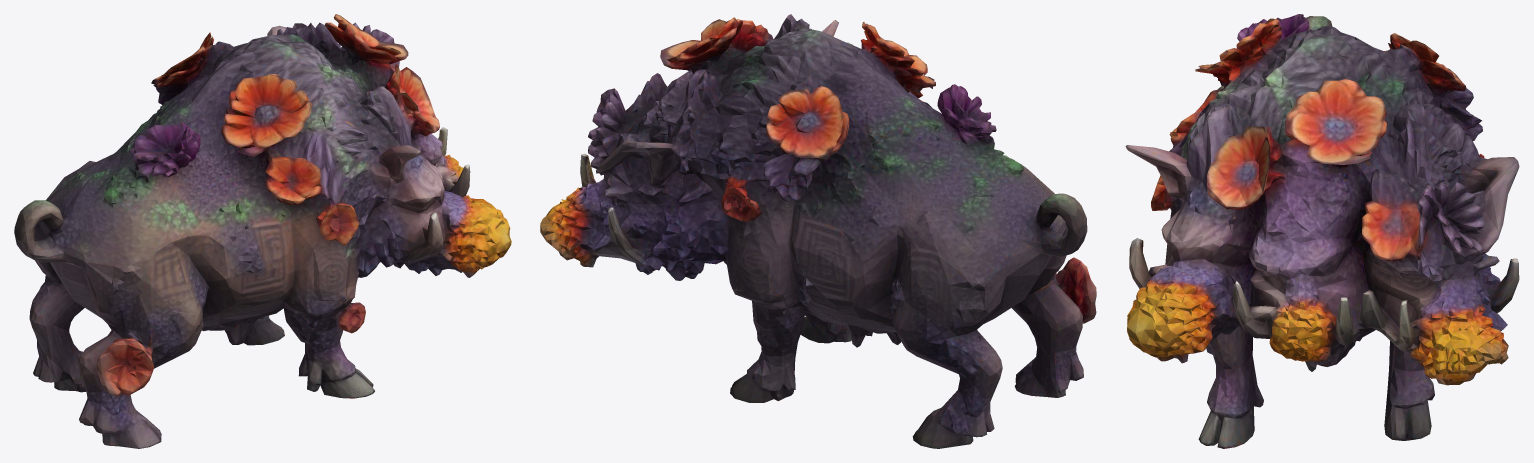
File: mossmaw__rotbloom.glb
3 views of the same model, side by side, from view 1: azimuth 30°, elevation 25°; view 2: azimuth 150°, elevation 25°; view 3: azimuth 270°, elevation 25° (orthographic). The views are drawn at different scales.
Parts seen in each view (by area): view 1: world; view 2: world; view 3: world.
Boxes of the visible parts, x1,y1,x2,y2 form: world: [14, 14, 511, 448]; world: [540, 14, 1096, 448]; world: [1125, 14, 1519, 448].
Bounding box in the file's own units: 1 × 0.6862 × 0.6455.
1 material, 1 textured.
